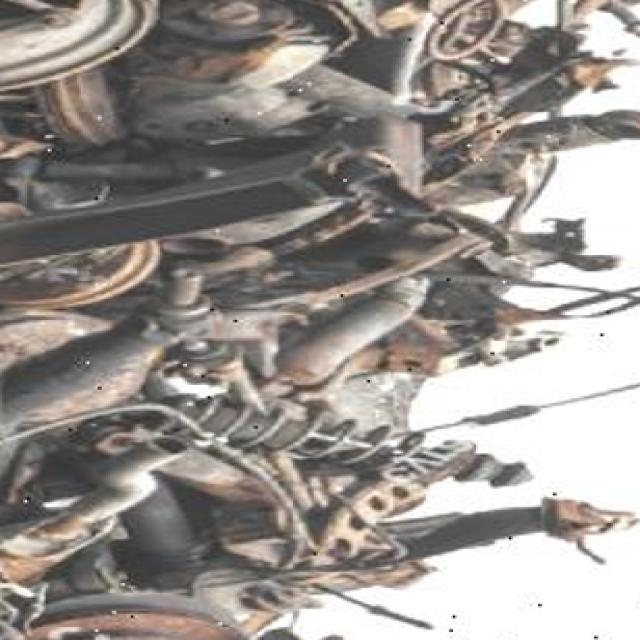shock absorber: (112, 397, 539, 490)
